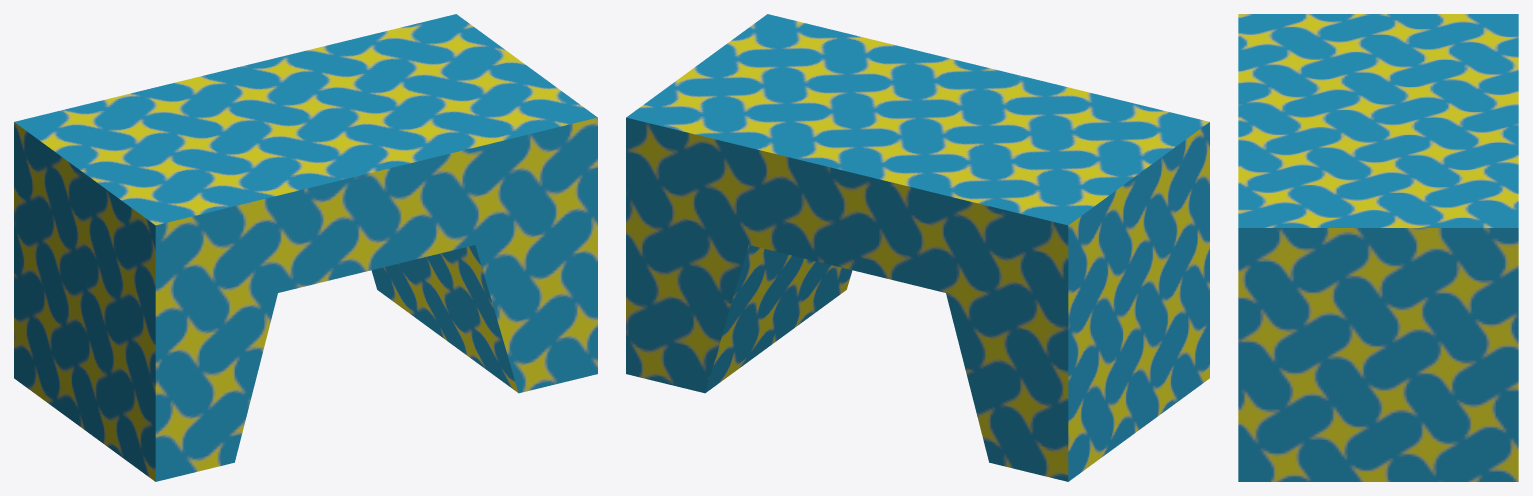
The model's file is KidsBoxE.FBX.
3 views of the same model, side by side, from view 1: azimuth 30°, elevation 25°; view 2: azimuth 150°, elevation 25°; view 3: azimuth 270°, elevation 25° (orthographic).
Parts seen in each view (by area): view 1: KidsBoxE; view 2: KidsBoxE; view 3: KidsBoxE.
Boxes of the visible parts, x1,y1,x2,y2 form: KidsBoxE: (14,14,597,481); KidsBoxE: (626,14,1209,481); KidsBoxE: (1238,14,1518,481).
Bounding box in the file's own units: 18.04 × 10 × 10.
